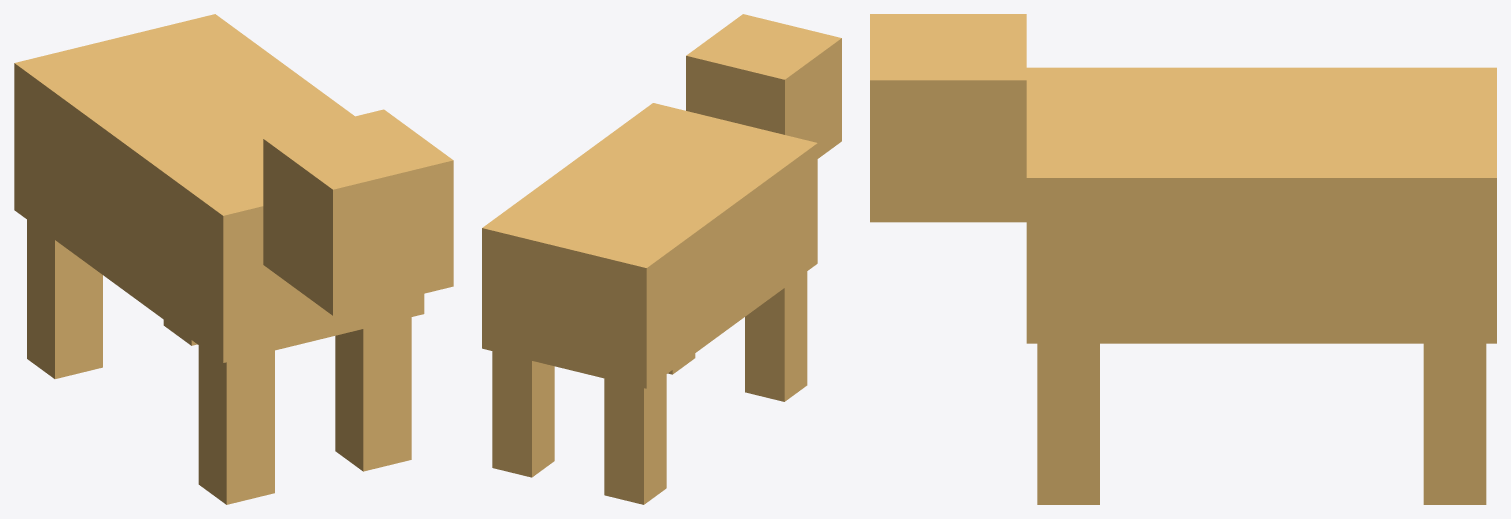
File: Fox.glb
3 renders of one model, left to right at view 1: azimuth 30°, elevation 25°; view 2: azimuth 150°, elevation 25°; view 3: azimuth 270°, elevation 25°, orthographic. The views are drawn at different scales.
Visible parts, largest first — view 1: Fox; view 2: Fox; view 3: Fox.
Boxes of the visible parts, bbox=[...] form: Fox: bbox=[14, 14, 453, 504]; Fox: bbox=[482, 14, 841, 504]; Fox: bbox=[870, 14, 1496, 504].
Size of the model in its own units: 0.5 by 0.86 by 1.2.
